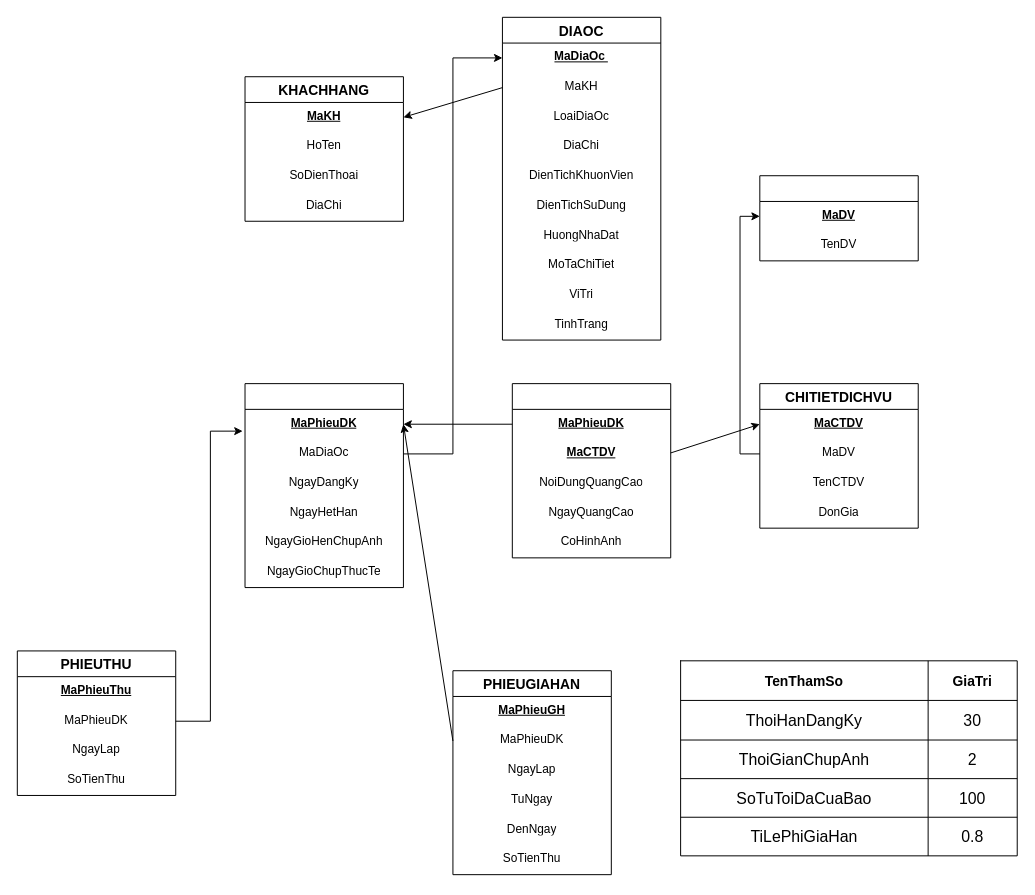
This 1035x895 diagram has some shape labels left out. The shapes that lost their labels are listed below. From the top down, each one's box as (x1, y1, x2, y2) in pixels, then its label:
(759, 175, 918, 261): DICHVU
(244, 383, 403, 588): PHIEUDANGKY
(511, 383, 671, 558): CHITIET_DKDV
